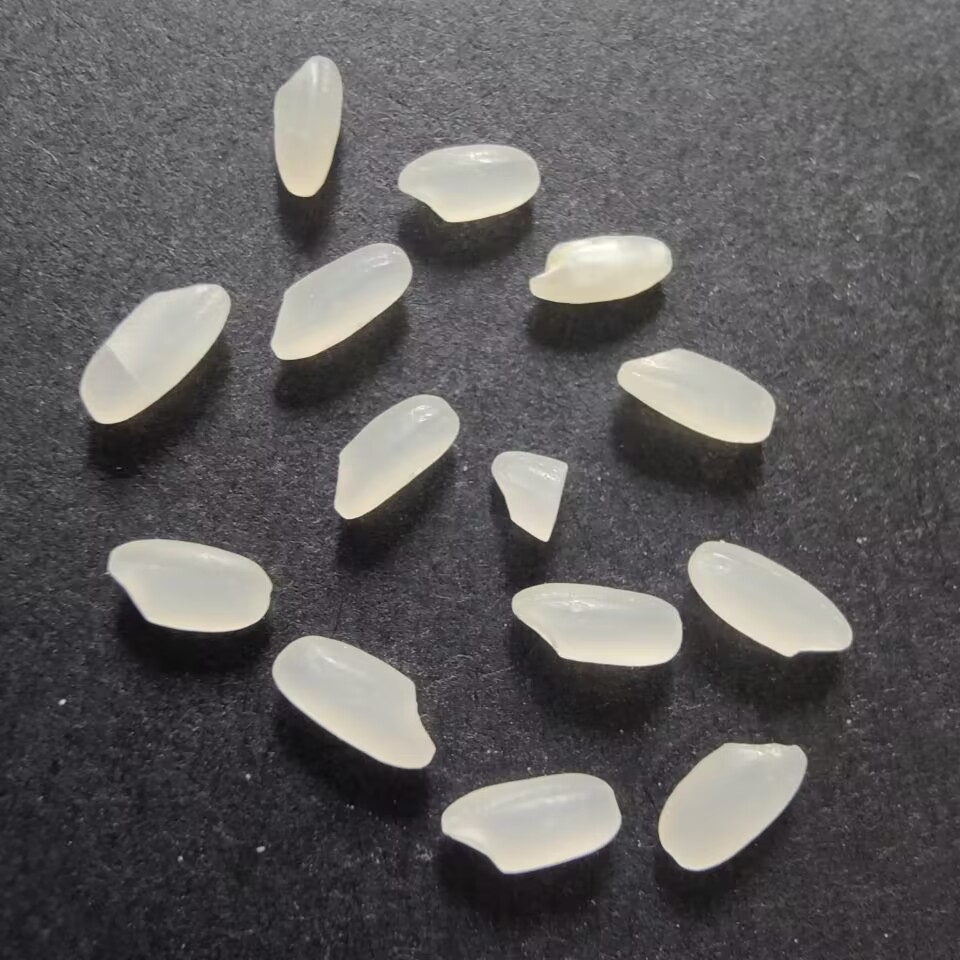broken: (485, 446, 573, 549)
rice: (75, 277, 230, 430), (267, 634, 438, 772), (683, 537, 861, 663), (654, 737, 811, 874), (434, 767, 625, 879), (326, 390, 462, 524), (611, 345, 786, 449), (99, 535, 277, 636), (267, 240, 412, 363), (505, 579, 685, 675), (394, 141, 543, 225), (269, 49, 347, 204), (519, 233, 678, 306)
